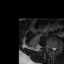CCS_stenosis: (53, 45, 54, 53)
LFS_stenosis: (56, 45, 59, 51)
LLS_normal: (54, 45, 56, 52)
RFS_stenosis: (49, 44, 51, 50)
RLS_normal: (51, 45, 53, 51)
